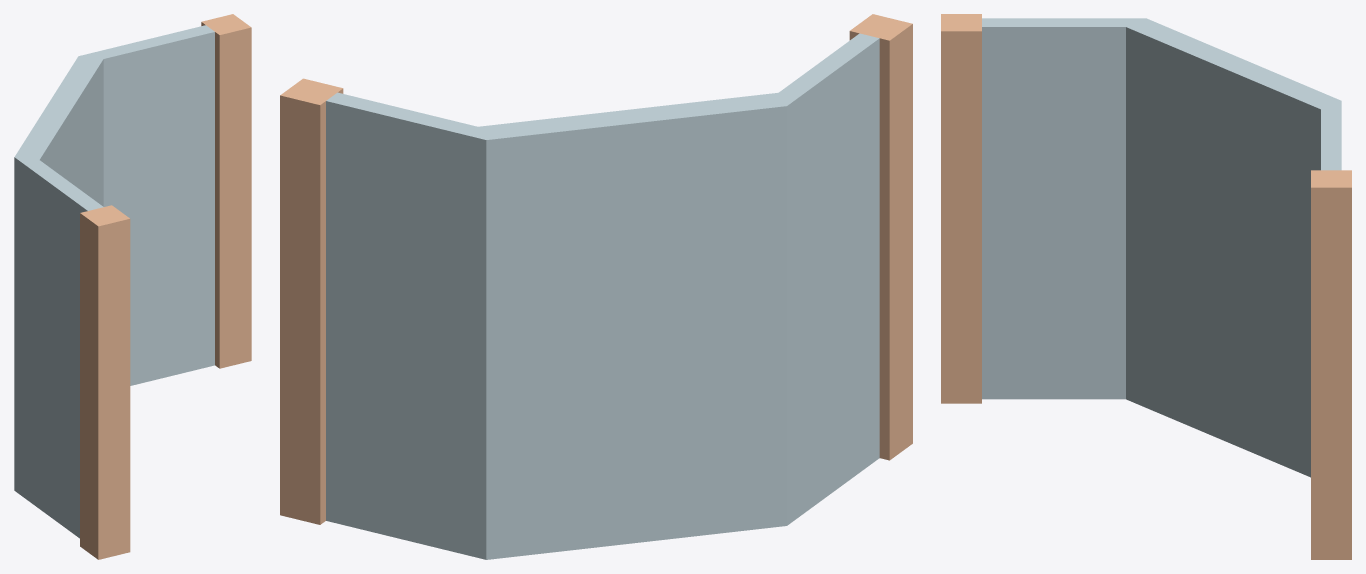
File: wallCornerDiagonal.glb
3 renders of one model, left to right at view 1: azimuth 30°, elevation 25°; view 2: azimuth 150°, elevation 25°; view 3: azimuth 270°, elevation 25°, orthographic. The views are drawn at different scales.
Parts seen in each view (by area): view 1: wallCornerDiagonal; view 2: wallCornerDiagonal; view 3: wallCornerDiagonal.
Boxes of the visible parts, x1,y1,x2,y2 form: wallCornerDiagonal: [14, 14, 251, 559]; wallCornerDiagonal: [280, 14, 912, 559]; wallCornerDiagonal: [941, 14, 1351, 559].
Size of the model in its own units: 1 by 1 by 1.
